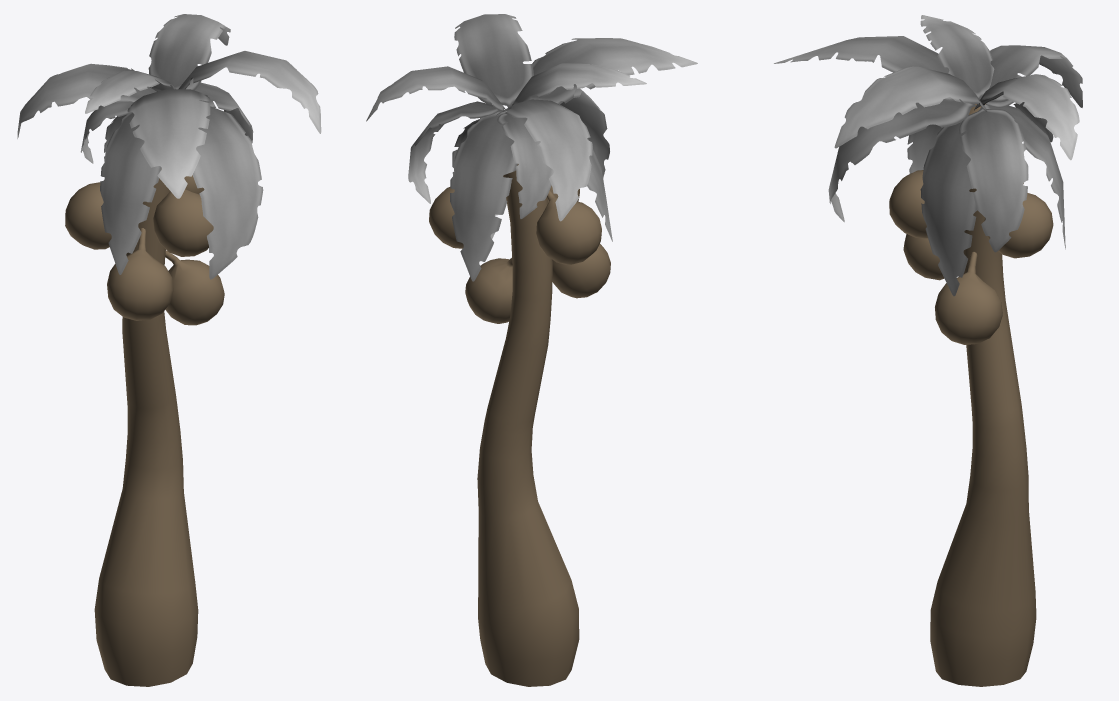
Rendered from CocoNutTree.fbx.
3 views of the same model, side by side, from view 1: azimuth 30°, elevation 25°; view 2: azimuth 150°, elevation 25°; view 3: azimuth 270°, elevation 25° (orthographic). The views are drawn at different scales.
Parts seen in each view (by area): view 1: CoconutLeaf_low15; view 2: CoconutLeaf_low15; view 3: CoconutLeaf_low15.
Part boxes in pixels (<box>): CoconutLeaf_low15: <box>17,14,321,686</box>; CoconutLeaf_low15: <box>366,14,697,686</box>; CoconutLeaf_low15: <box>774,15,1082,686</box>.
Bounding box in the file's own units: 112 × 276 × 140.
2 materials, 1 textured.
